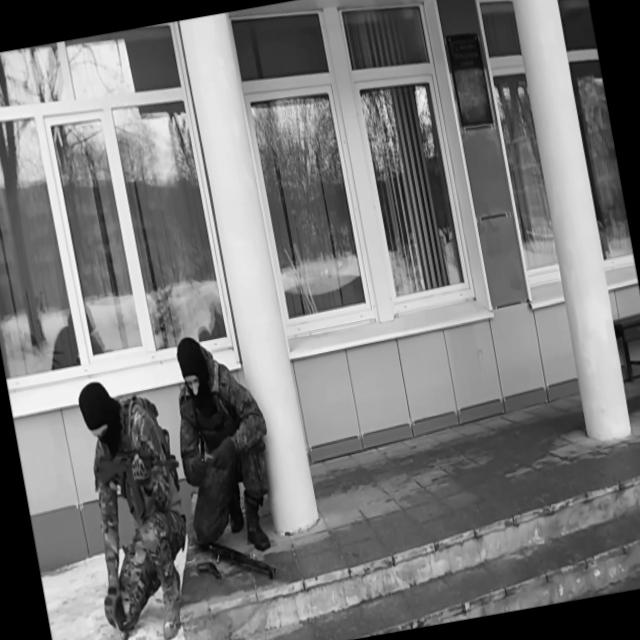gun: (94, 440, 188, 528), (188, 512, 280, 594), (195, 555, 222, 585)
person with a gun: (64, 366, 209, 640), (160, 327, 287, 562)
